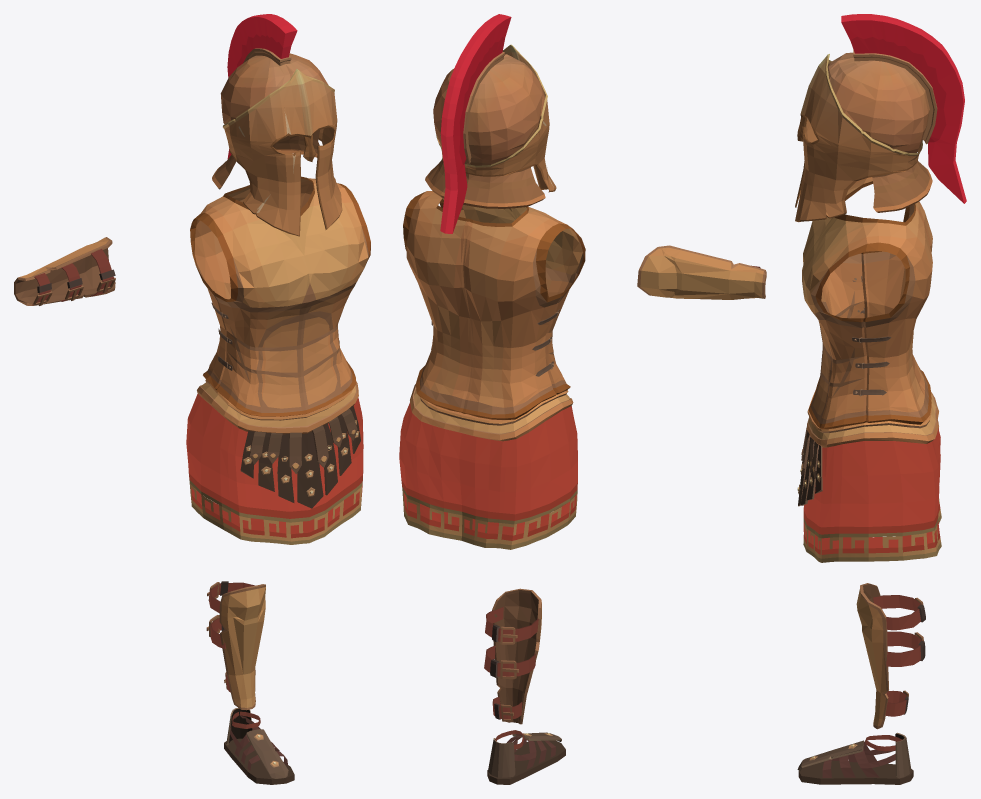
Rendered from spartanArmorFemale.glb.
The picture shows the model from 3 angles, left to right: view 1: azimuth 30°, elevation 25°; view 2: azimuth 150°, elevation 25°; view 3: azimuth 270°, elevation 25°; orthographic projection. The views are drawn at different scales.
Parts seen in each view (by area): view 1: spartanArmorBody, spartanArmorSkirt, spartanArmorHelmet, spartanArmorLegArmor, spartanArmorArmArmor, spartanSandleFootLeg; view 2: spartanArmorBody, spartanArmorSkirt, spartanArmorHelmet, spartanArmorLegArmor, spartanArmorArmArmor, spartanSandleFootLeg; view 3: spartanArmorHelmet, spartanArmorBody, spartanArmorSkirt, spartanArmorLegArmor, spartanSandleFootLeg.
Part boxes in pixels (left/top/right/bottom): spartanArmorBody: left=190, top=176, right=370, bottom=416; spartanArmorSkirt: left=186, top=379, right=363, bottom=544; spartanArmorHelmet: left=212, top=14, right=342, bottom=236; spartanArmorLegArmor: left=206, top=581, right=265, bottom=710; spartanArmorArmArmor: left=14, top=237, right=115, bottom=305; spartanSandleFootLeg: left=224, top=708, right=294, bottom=784; spartanArmorBody: left=403, top=191, right=585, bottom=419; spartanArmorSkirt: left=399, top=384, right=577, bottom=549; spartanArmorHelmet: left=425, top=14, right=556, bottom=233; spartanArmorLegArmor: left=484, top=588, right=541, bottom=724; spartanArmorArmArmor: left=637, top=245, right=766, bottom=299; spartanSandleFootLeg: left=487, top=730, right=565, bottom=784; spartanArmorHelmet: left=795, top=14, right=966, bottom=222; spartanArmorBody: left=802, top=177, right=932, bottom=429; spartanArmorSkirt: left=797, top=392, right=941, bottom=562; spartanArmorLegArmor: left=856, top=583, right=925, bottom=729; spartanSandleFootLeg: left=797, top=732, right=913, bottom=784.
Size of the model in its own units: 0.992 by 2.02 by 0.4059.
